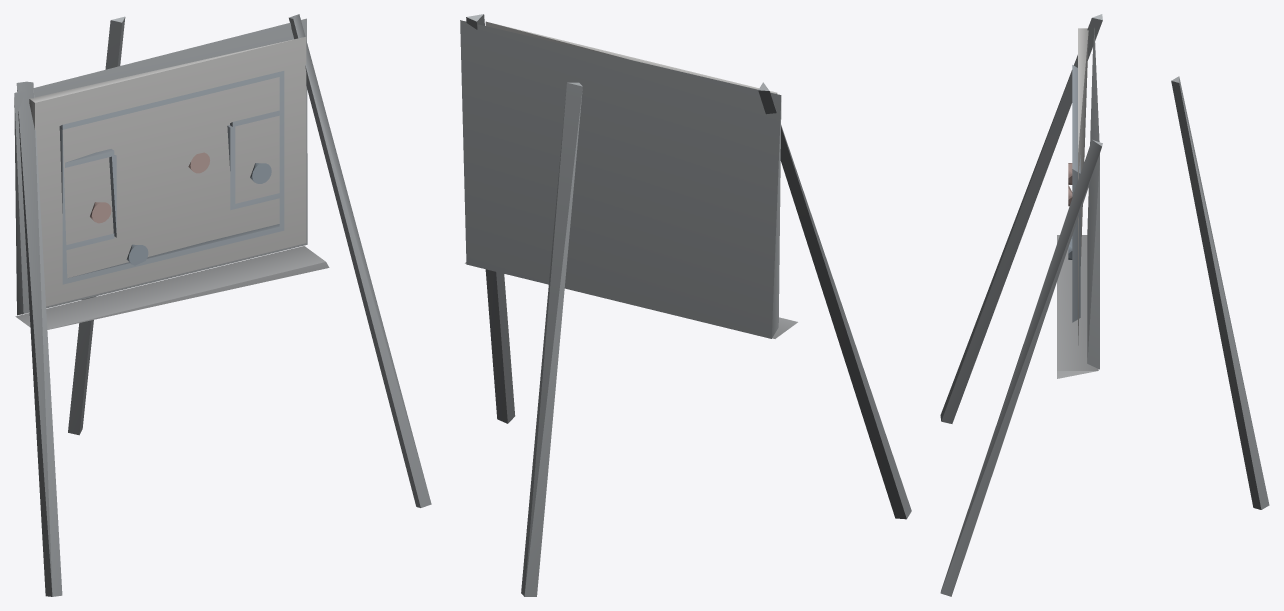
The model's file is tactics.lod1.glb.
The picture shows the model from 3 angles, left to right: view 1: azimuth 30°, elevation 25°; view 2: azimuth 150°, elevation 25°; view 3: azimuth 270°, elevation 25°; orthographic projection. The views are drawn at different scales.
Bounding box in the file's own units: 1.55 × 1.73 × 1.2.
